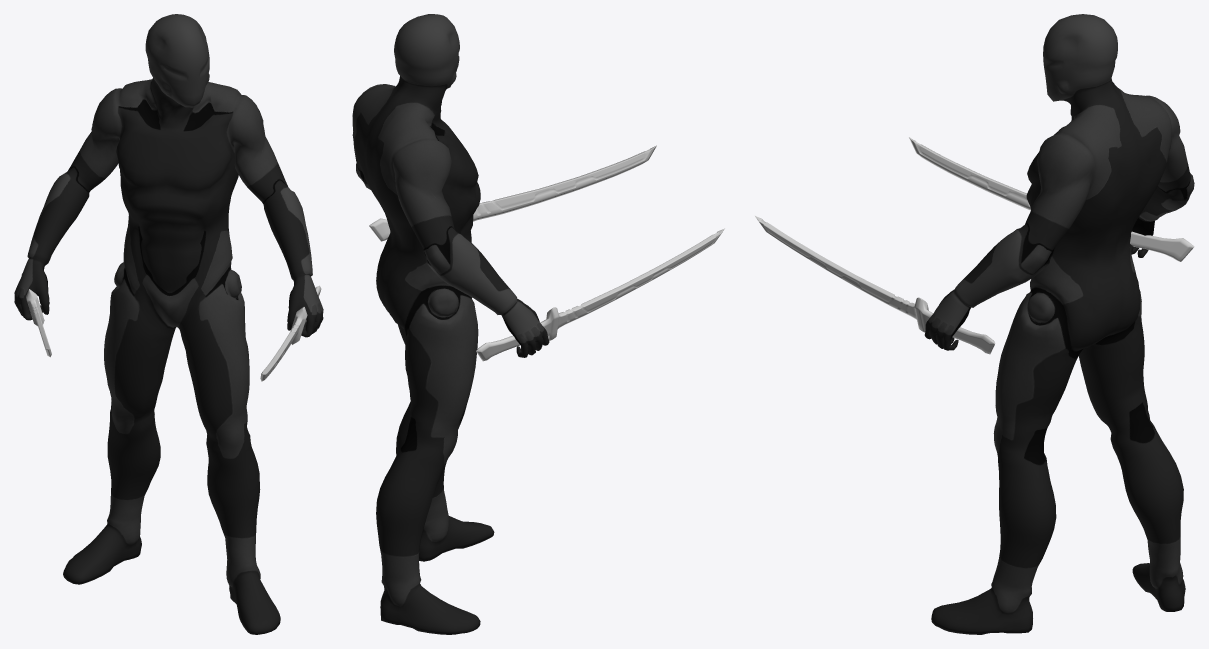
3 renders of one model, left to right at view 1: azimuth 30°, elevation 25°; view 2: azimuth 150°, elevation 25°; view 3: azimuth 270°, elevation 25°, orthographic. The views are drawn at different scales.
Parts seen in each view (by area): view 1: Cyborg_Ninja_Killer, Sword_l, Sword_l001; view 2: Cyborg_Ninja_Killer, Sword_l001, Sword_l; view 3: Cyborg_Ninja_Killer, Sword_l, Sword_l001.
Part boxes in pixels (bbox=[...]): Cyborg_Ninja_Killer: bbox=[14, 14, 323, 634]; Sword_l: bbox=[260, 285, 321, 381]; Sword_l001: bbox=[21, 273, 51, 357]; Cyborg_Ninja_Killer: bbox=[352, 14, 549, 634]; Sword_l001: bbox=[476, 228, 724, 361]; Sword_l: bbox=[369, 145, 656, 241]; Cyborg_Ninja_Killer: bbox=[924, 14, 1194, 634]; Sword_l: bbox=[755, 216, 995, 354]; Sword_l001: bbox=[909, 137, 1194, 261].
Size of the model in its own units: 105 by 182 by 122.
